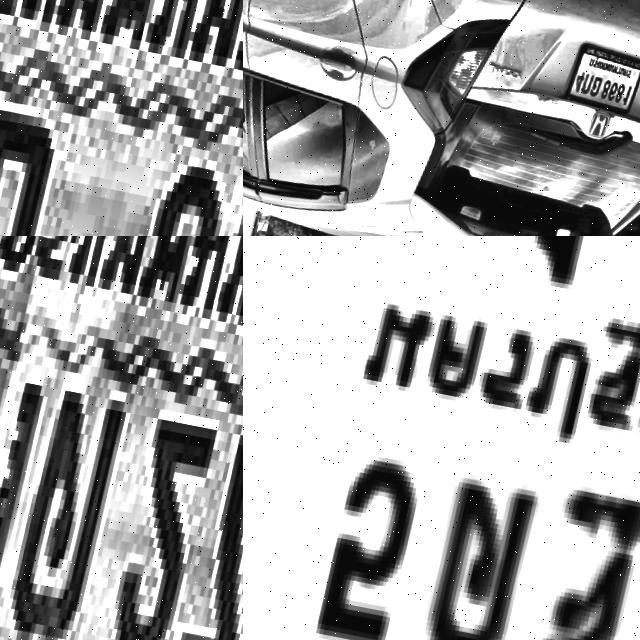license-plate: (243, 236, 640, 640), (0, 236, 243, 640), (0, 0, 243, 236), (567, 42, 640, 119)
